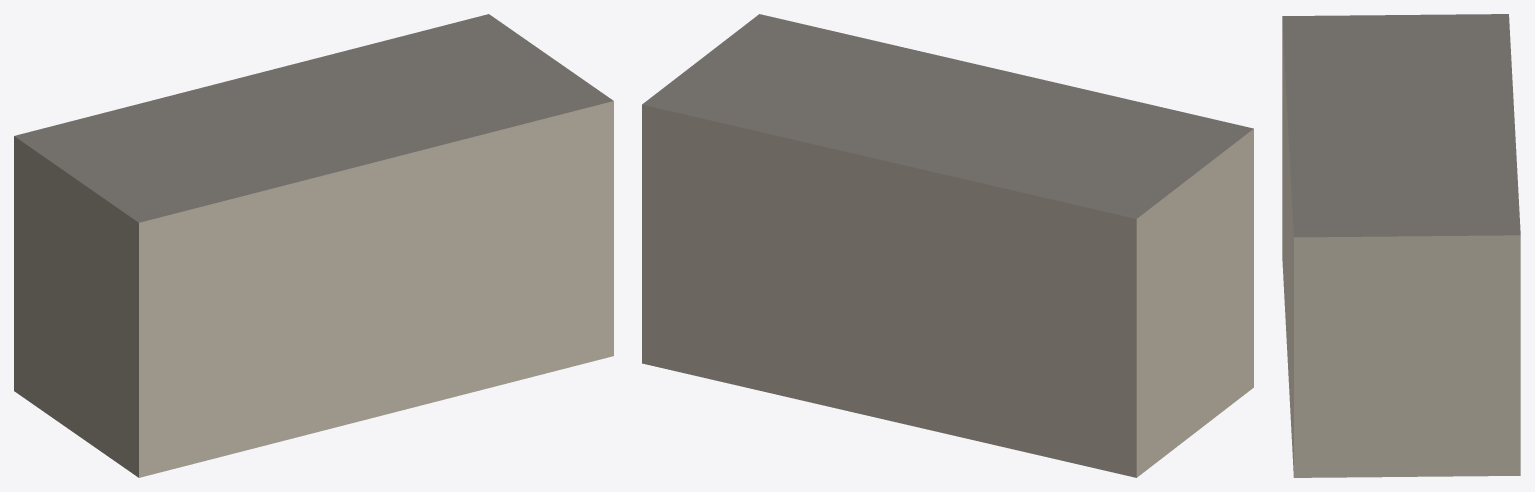
3 views of the same model, side by side, from view 1: azimuth 30°, elevation 25°; view 2: azimuth 150°, elevation 25°; view 3: azimuth 270°, elevation 25° (orthographic). The views are drawn at different scales.
Parts seen in each view (by area): view 1: HP-w1448275212; view 2: HP-w1448275212; view 3: HP-w1448275212.
Part boxes in pixels (left/top/right/bottom): HP-w1448275212: left=14, top=14, right=613, bottom=477; HP-w1448275212: left=642, top=14, right=1253, bottom=477; HP-w1448275212: left=1282, top=14, right=1520, bottom=477.
Bounding box in the file's own units: 35.87 × 18 × 16.18.
